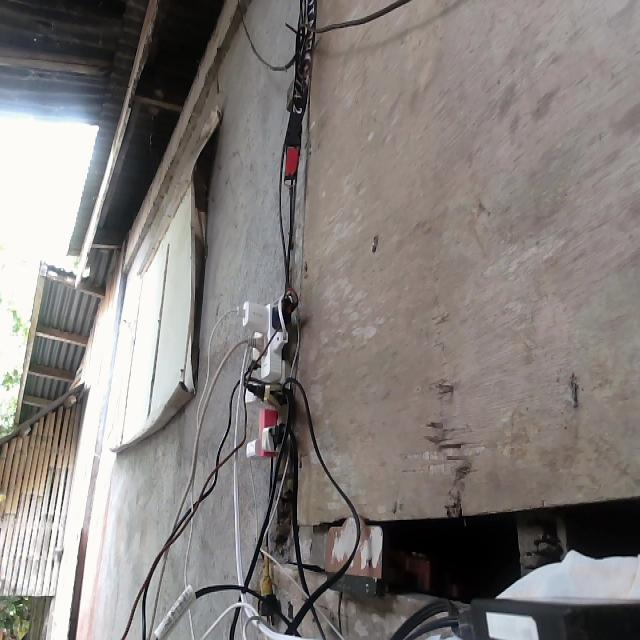-: (236, 294, 297, 458)
